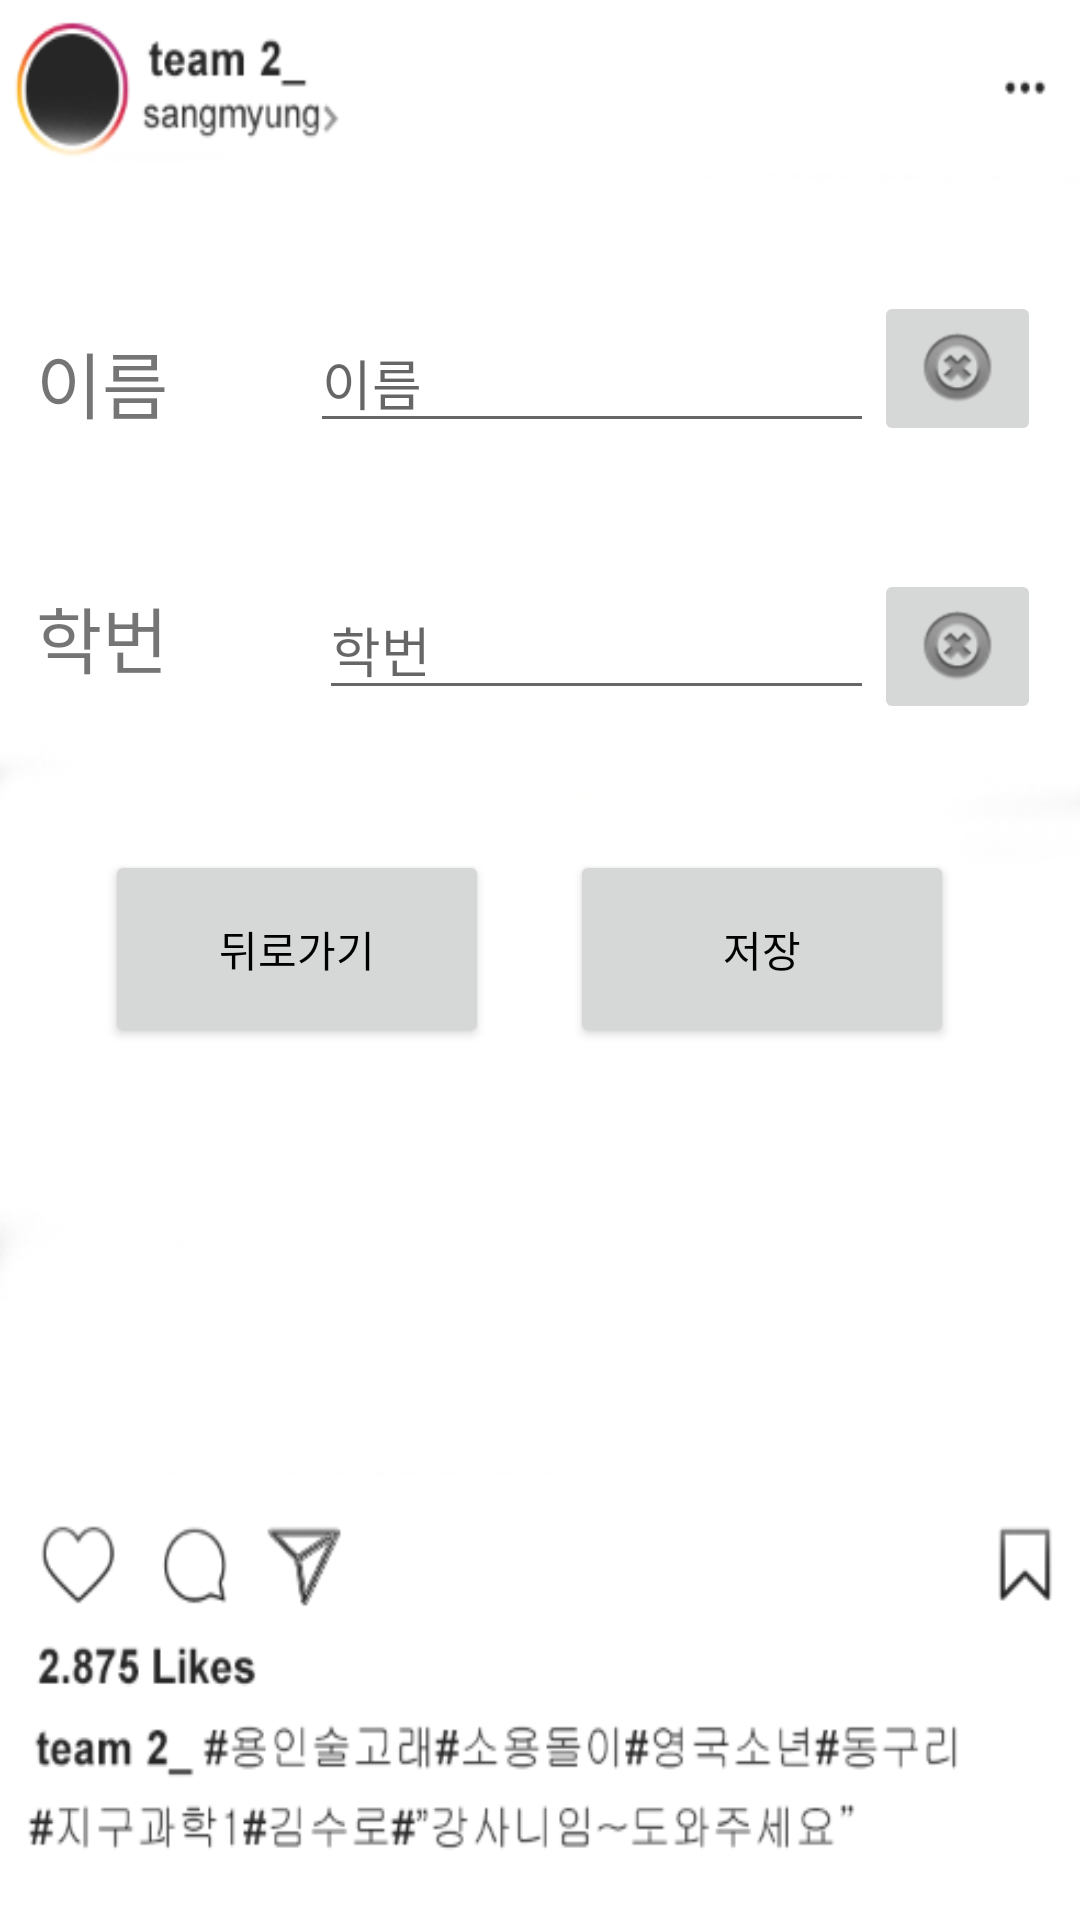

Icons on this 1080x1920 Android screen, each with the point to tap as (x=x, y=y):
notification clear all: (x=957, y=368), (x=957, y=646)
